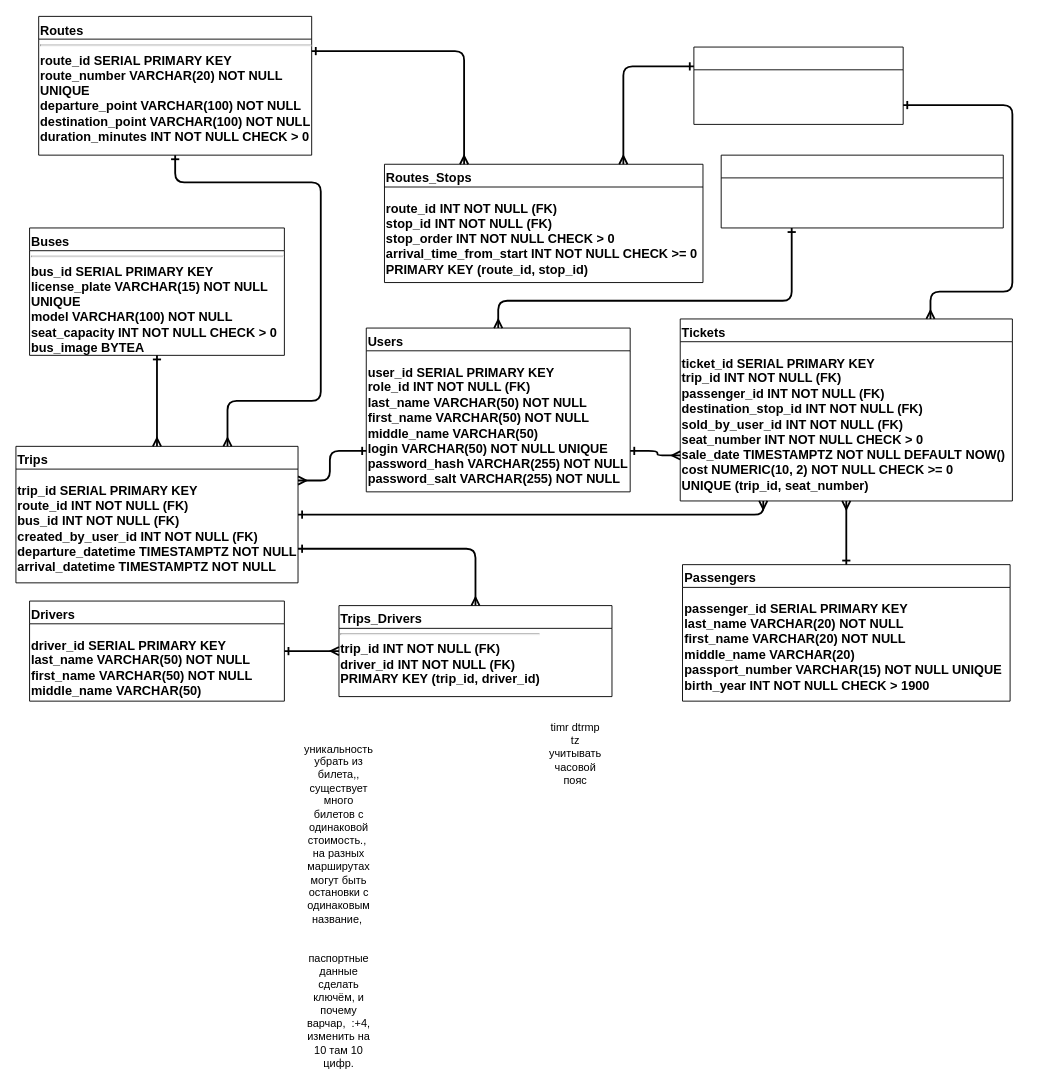
Some shapes in this 1037 by 1085 pixel diagram are drawn without their labels. The centre of each missing label's shape, as x and y in pixels:
"Roles role_id SERIAL PRIMARY KEY role_name VARCHAR(50) NOT NULL UNIQUE" goes at point 861,191.
"Stops stop_id SERIAL PRIMARY KEY name VARCHAR(100) NOT NULL" goes at point 798,85.
